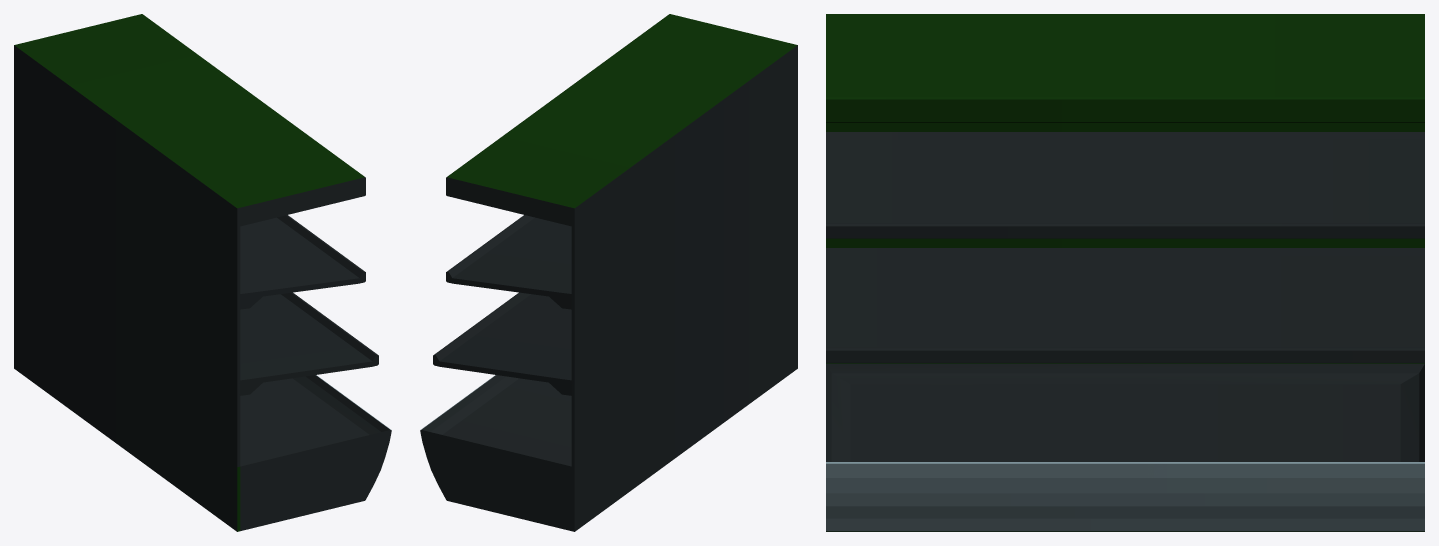
Rendered from Produce_2row_col.glb.
3 renders of one model, left to right at view 1: azimuth 30°, elevation 25°; view 2: azimuth 150°, elevation 25°; view 3: azimuth 270°, elevation 25°, orthographic. The views are drawn at different scales.
Visible parts, largest first — view 1: Produce_2row_col; view 2: Produce_2row_col; view 3: Produce_2row_col.
Boxes of the visible parts, x1=… form: Produce_2row_col: x1=14, y1=14, x2=391, y2=531; Produce_2row_col: x1=420, y1=14, x2=797, y2=531; Produce_2row_col: x1=826, y1=14, x2=1424, y2=531.
Size of the model in its own units: 1.2 by 2.4 by 3.
Materials: 1 (1 with a texture image).
